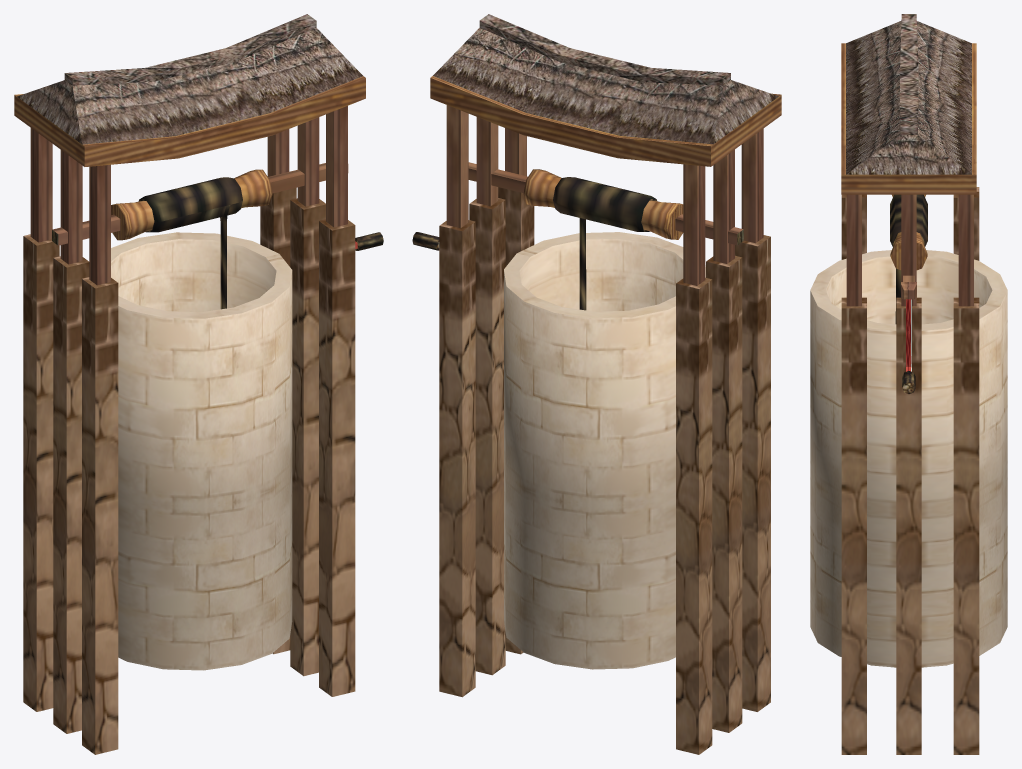
File: water_well_tenochtitlan.dae
The picture shows the model from 3 angles, left to right: view 1: azimuth 30°, elevation 25°; view 2: azimuth 150°, elevation 25°; view 3: azimuth 270°, elevation 25°; orthographic projection. The views are drawn at different scales.
Visible parts, largest first — view 1: Pozo; view 2: Pozo; view 3: Pozo.
Boxes of the visible parts, <box> form: Pozo: <box>14,14,383,754</box>; Pozo: <box>412,14,781,754</box>; Pozo: <box>810,14,1007,754</box>.
Size of the model in its own units: 4.25 by 2.3 by 8.
